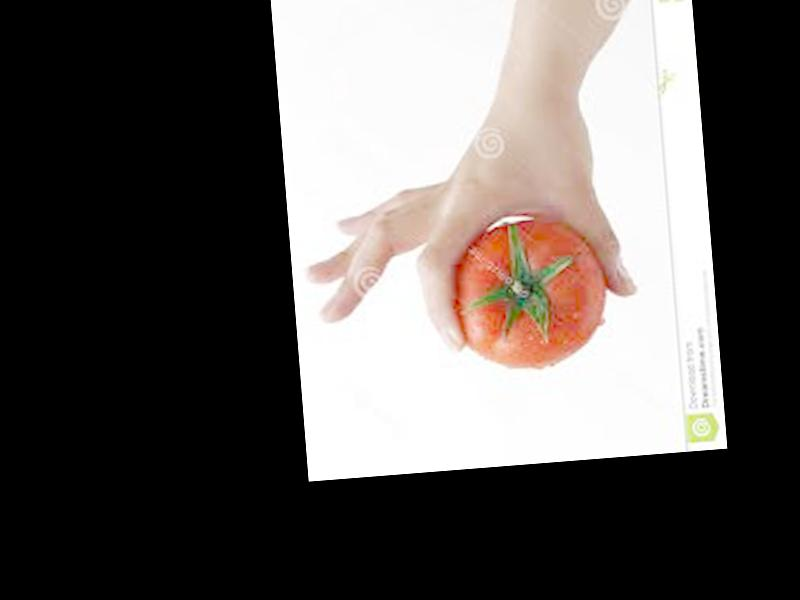Tomato: (446, 213, 611, 375)
